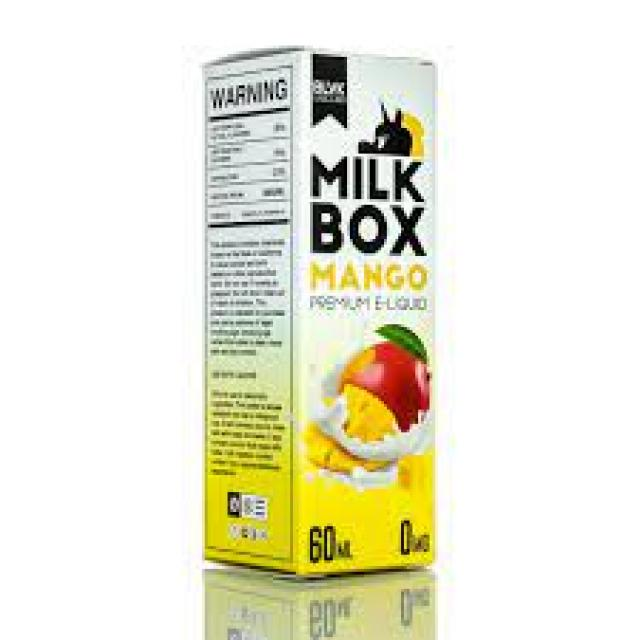non_white_jug: (182, 41, 447, 576)
